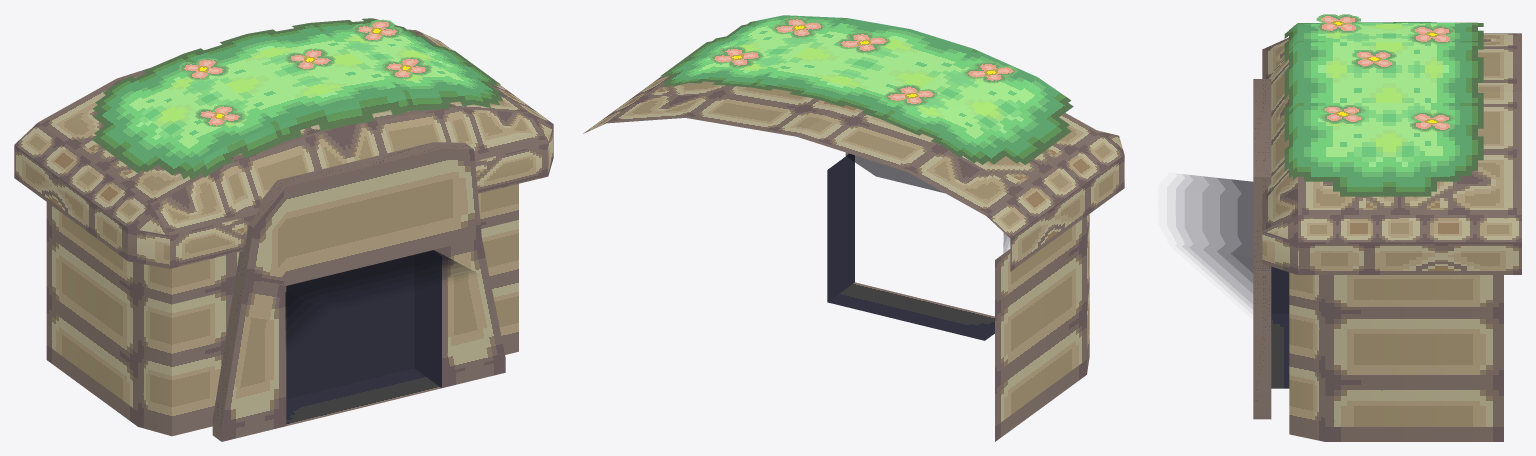
3 views of the same model, side by side, from view 1: azimuth 30°, elevation 25°; view 2: azimuth 150°, elevation 25°; view 3: azimuth 270°, elevation 25° (orthographic). The views are drawn at different scales.
Size of the model in its own units: 6.75 by 4.56 by 5.15.
Materials: 4 (4 with a texture image).
